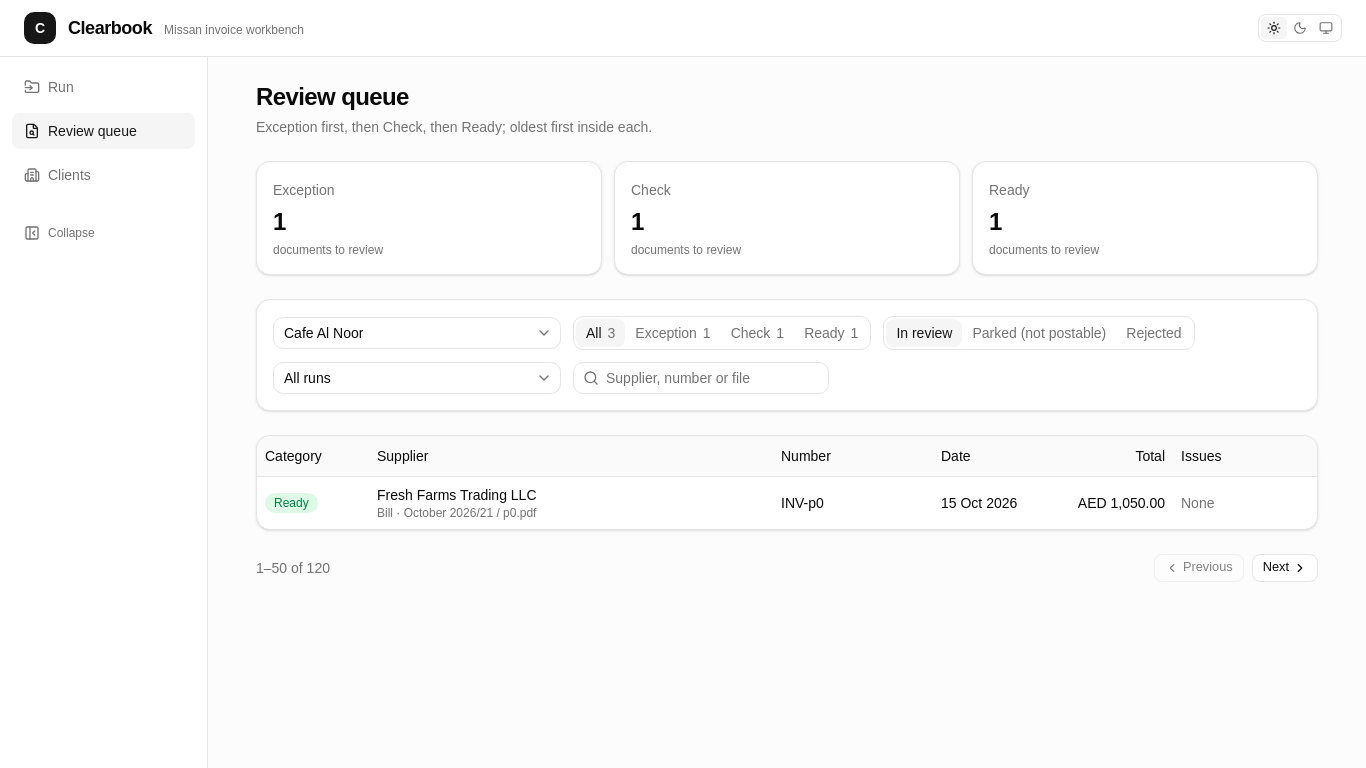
Test case: review queue › pages through long queues
Expected: the text "1–50 of 120" is shown, [256,558,330,578]
Expected: the button "Previous" is disabled, [1154,554,1244,582]
Click the button "Next" at {"x": 1285, "y": 568}, box [1252,554,1318,582]
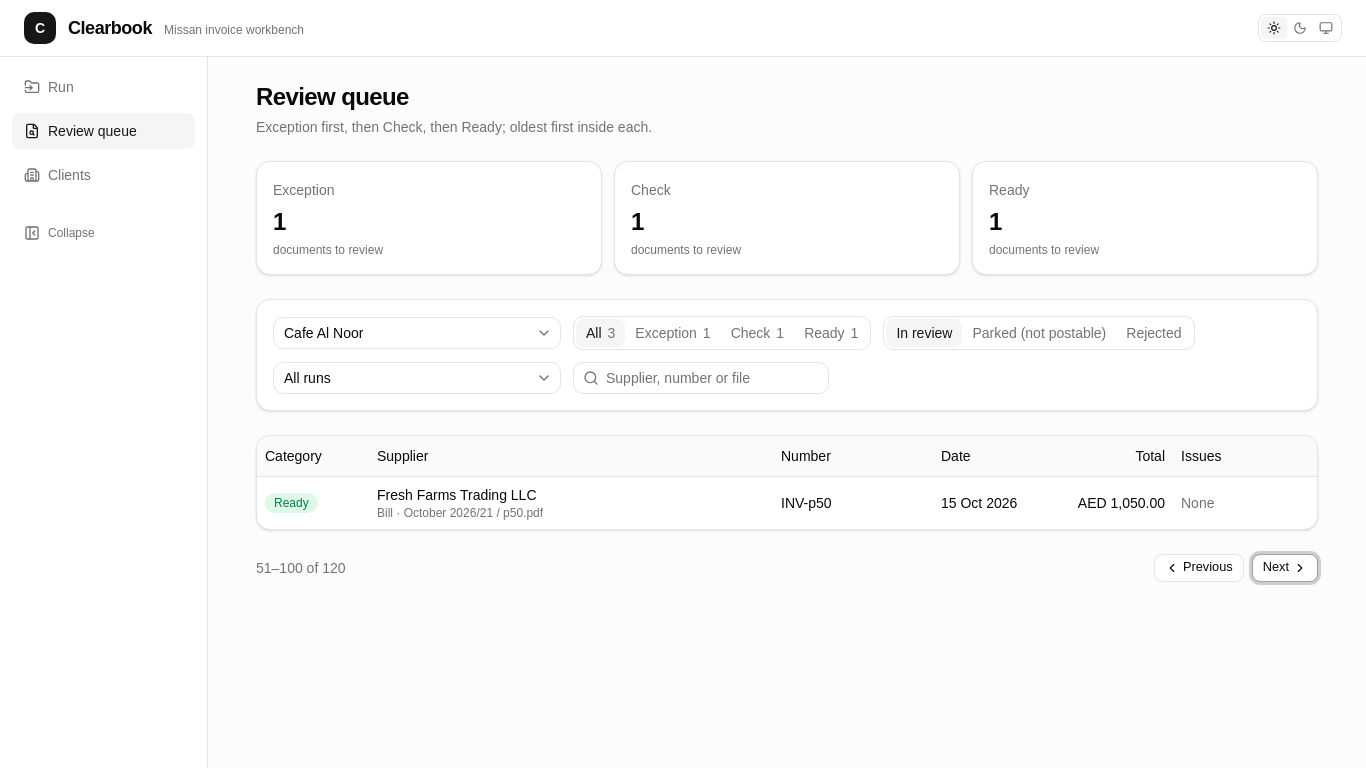
Click the button "Next" at {"x": 1285, "y": 568}, box [1252,554,1318,582]
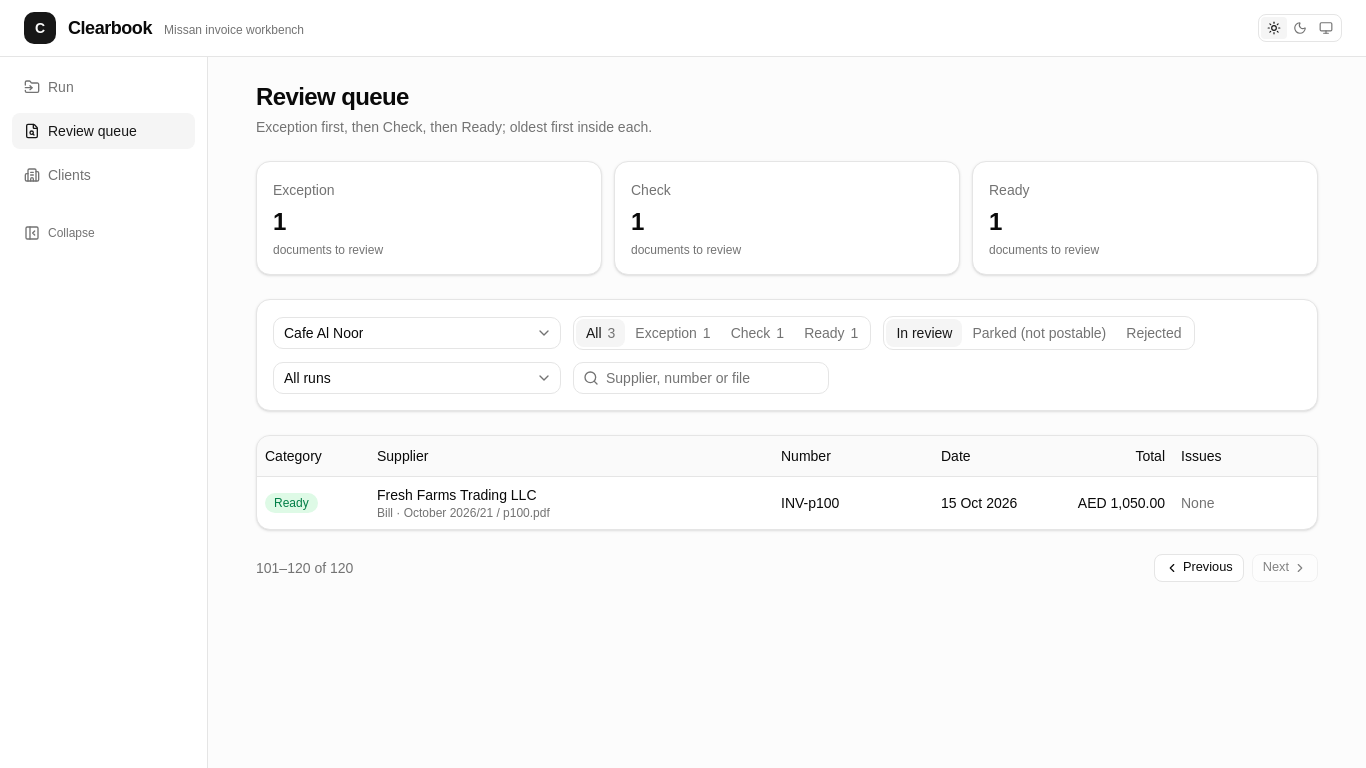
Expected: the text "101–120 of 120" is shown, [256,558,353,578]
Expected: the button "Next" is disabled, [1252,554,1318,582]
